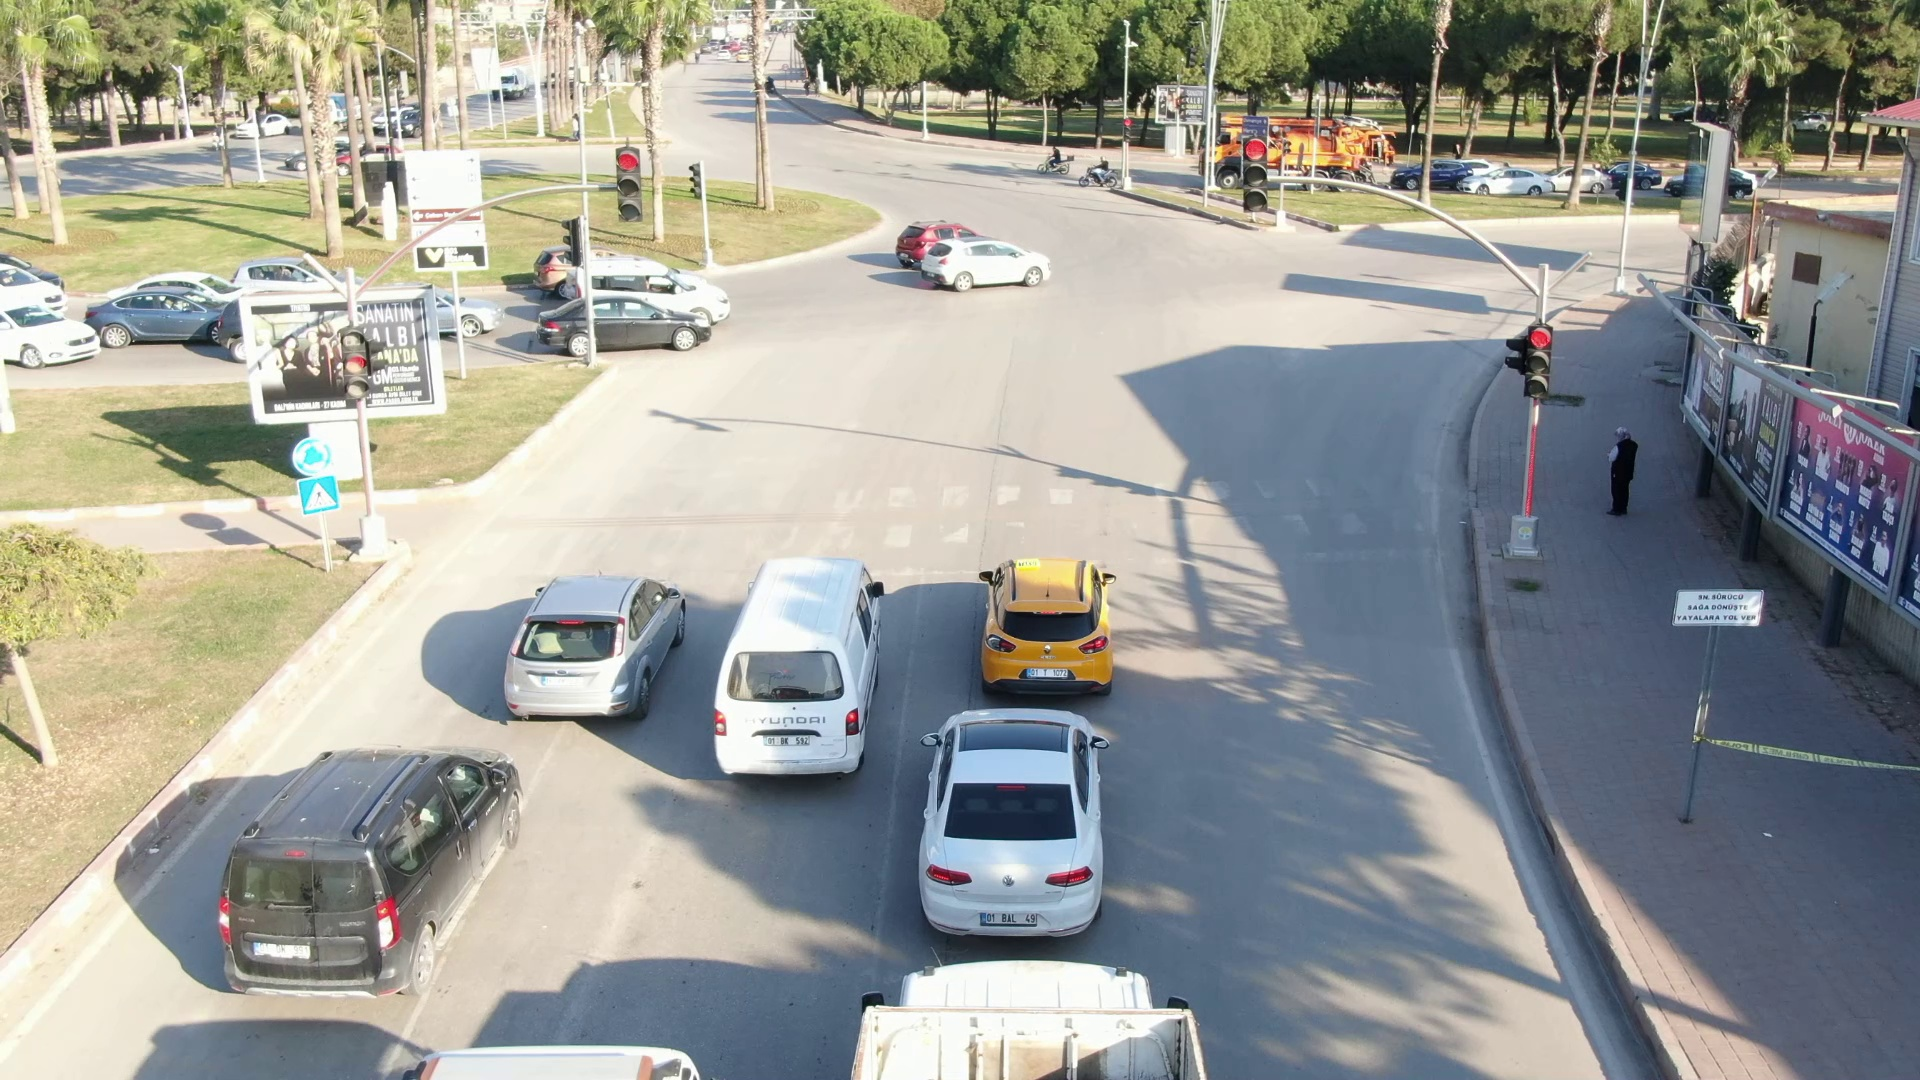car: (202, 753, 549, 1010), (919, 696, 1121, 945), (704, 557, 908, 798), (496, 576, 706, 739), (968, 547, 1131, 698), (515, 294, 710, 343), (908, 233, 1057, 294)
person: (1600, 425, 1657, 531)
